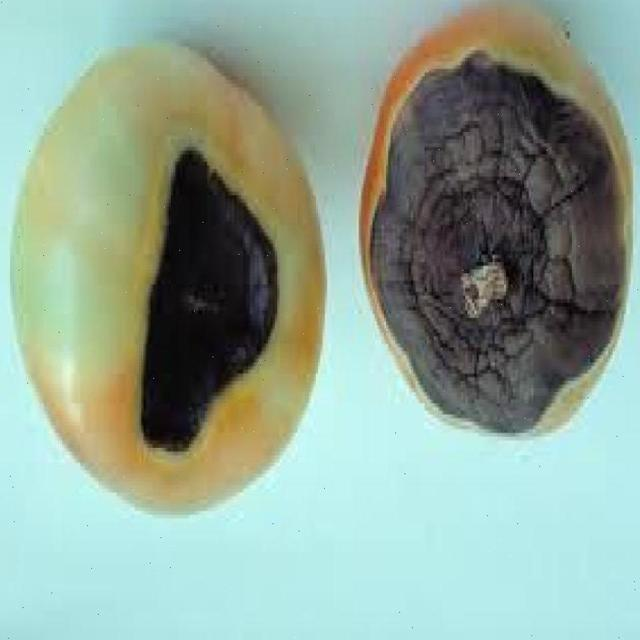Blossom End Rot Fruit: (96, 164, 333, 260)
